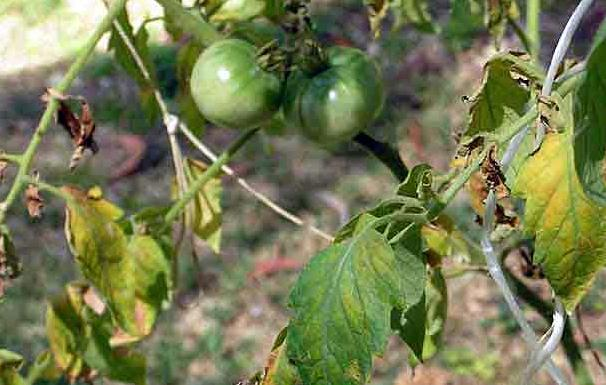Tomato mold leaf: (245, 228, 408, 385), (507, 118, 606, 331), (51, 186, 148, 329)
